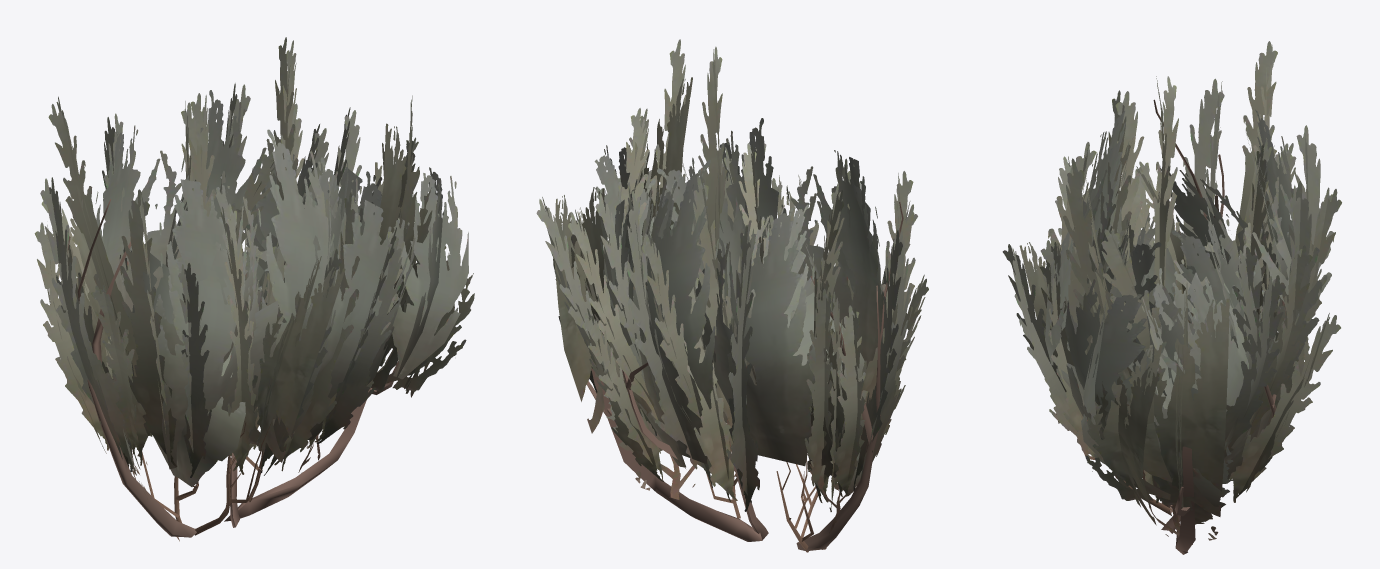
3 renders of one model, left to right at view 1: azimuth 30°, elevation 25°; view 2: azimuth 150°, elevation 25°; view 3: azimuth 270°, elevation 25°, orthographic.
Visible parts, largest first — view 1: body0_model0_lod0_mesh0; view 2: body0_model0_lod0_mesh0; view 3: body0_model0_lod0_mesh0.
Boxes of the visible parts, bbox=[...] form: body0_model0_lod0_mesh0: bbox=[34, 37, 474, 541]; body0_model0_lod0_mesh0: bbox=[536, 39, 928, 552]; body0_model0_lod0_mesh0: bbox=[1002, 41, 1341, 554].
Bounding box in the file's own units: 93.34 × 109 × 76.01.
Materials: 1 (1 with a texture image).
